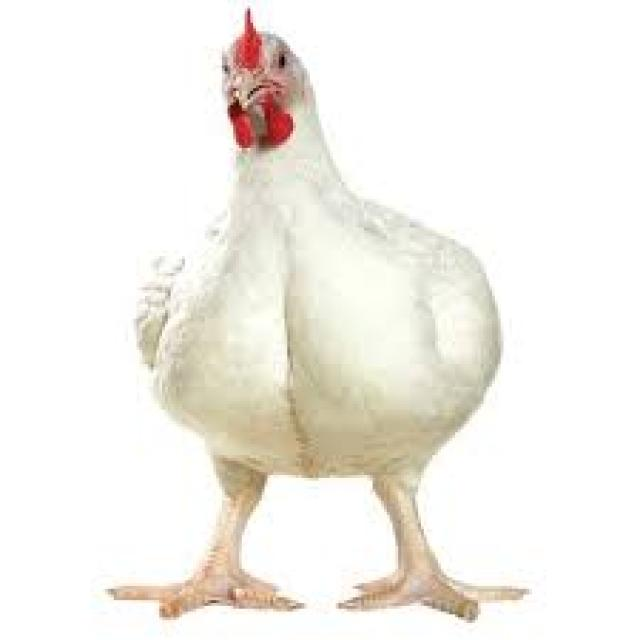Healthy: (89, 8, 535, 627)
